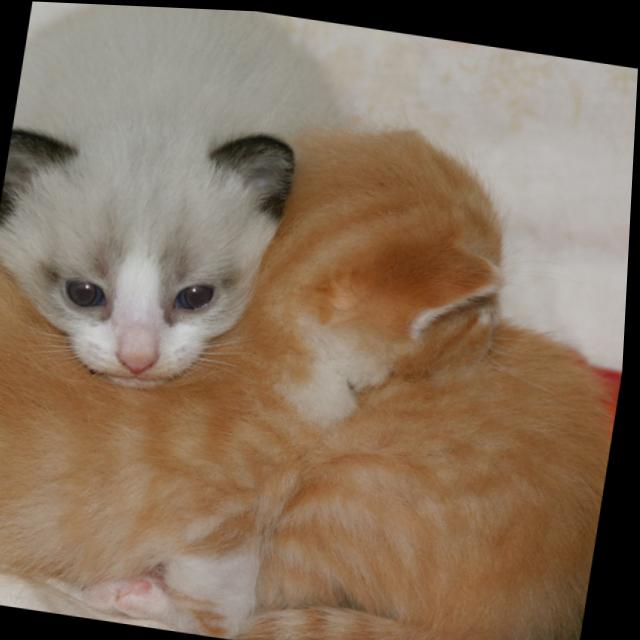animals: (0, 101, 288, 385)
